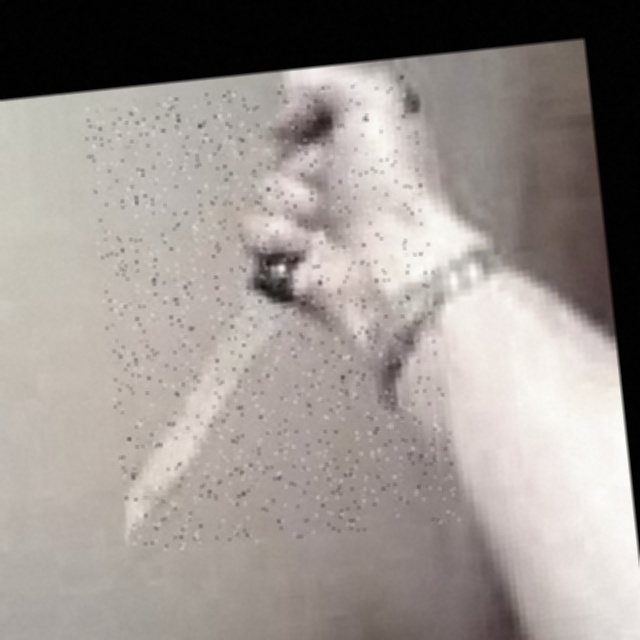Sharp-Object: (82, 72, 459, 555)
